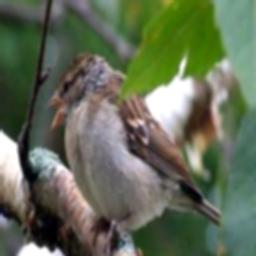Sparrow: (42, 48, 221, 256)
